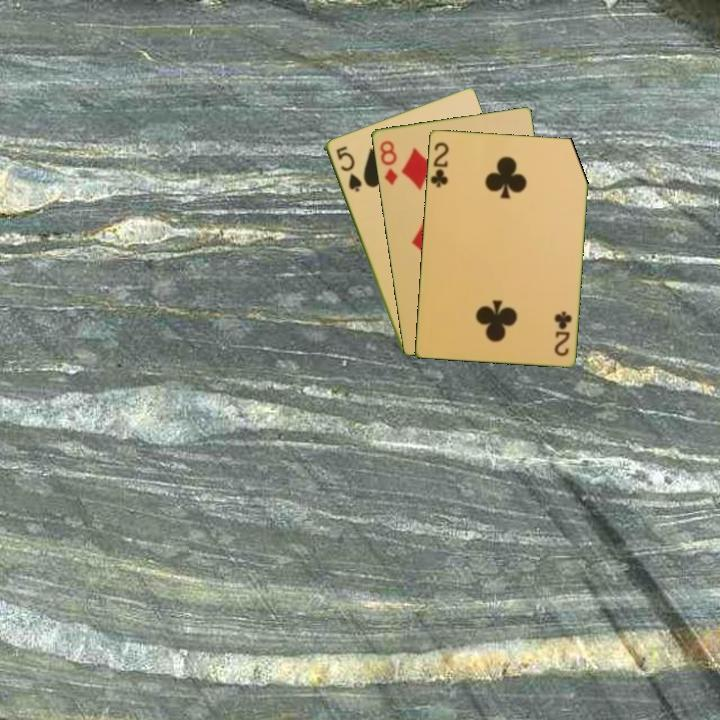2c: (427, 138, 451, 190), (550, 307, 574, 358)
5s: (332, 142, 365, 195)
8d: (376, 137, 400, 188)
